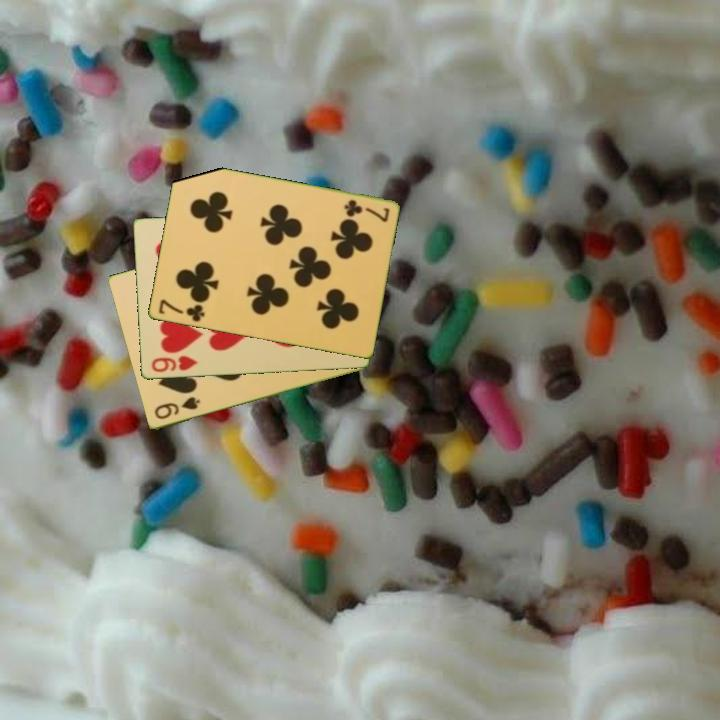7c: (155, 296, 207, 325), (340, 196, 392, 225)
9h: (148, 353, 200, 376)
9s: (151, 393, 203, 423)
